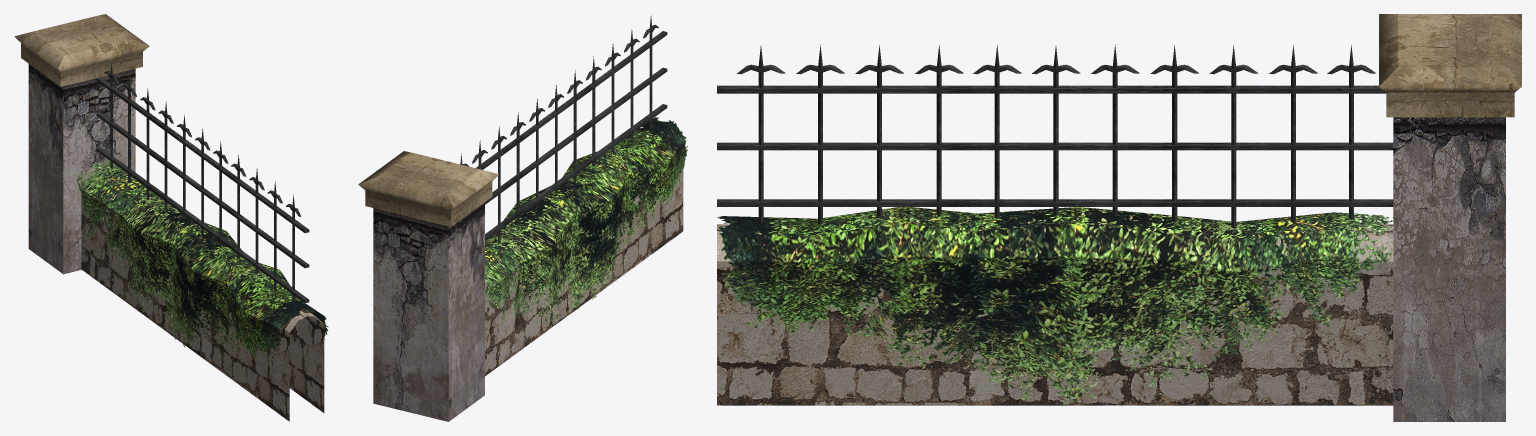
Rendered from Wall_Straight_02.fbx.
3 renders of one model, left to right at view 1: azimuth 30°, elevation 25°; view 2: azimuth 150°, elevation 25°; view 3: azimuth 270°, elevation 25°, orthographic. The views are drawn at different scales.
Parts seen in each view (by area): view 1: polySurface1; view 2: polySurface1; view 3: polySurface1.
Part boxes in pixels (<box>): polySurface1: <box>14,14,328,421</box>; polySurface1: <box>358,15,687,421</box>; polySurface1: <box>717,14,1521,421</box>.
Size of the model in its own units: 1.53 by 3.54 by 7.14.
